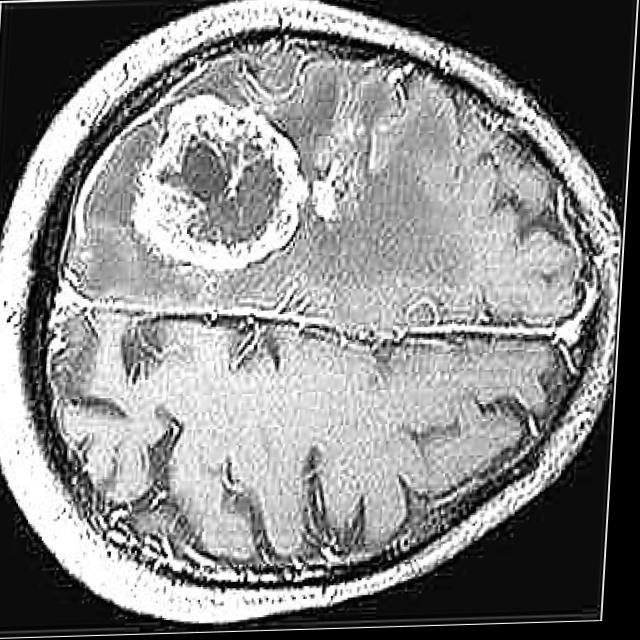Tumor: (129, 87, 313, 285)
